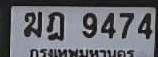4: (100, 11, 116, 38), (137, 12, 152, 40)
7: (119, 12, 134, 39)
9: (81, 12, 97, 39)
A06: (23, 11, 43, 38)
A14: (46, 11, 64, 42)
